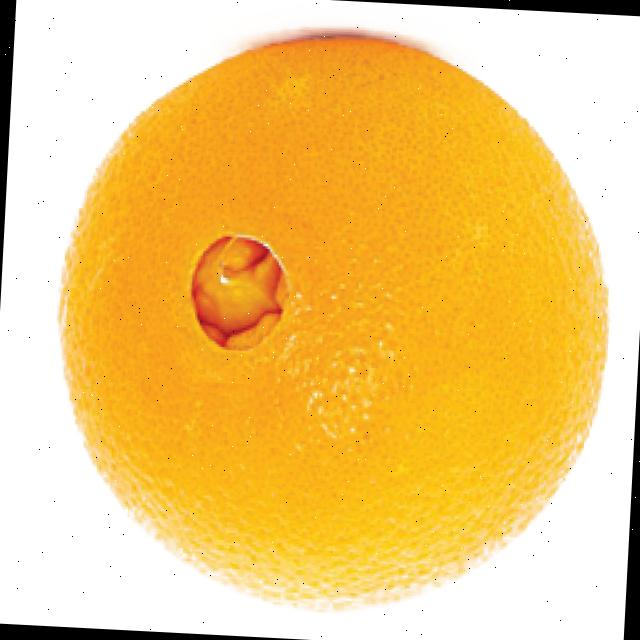Jeruk: (42, 20, 624, 629)
